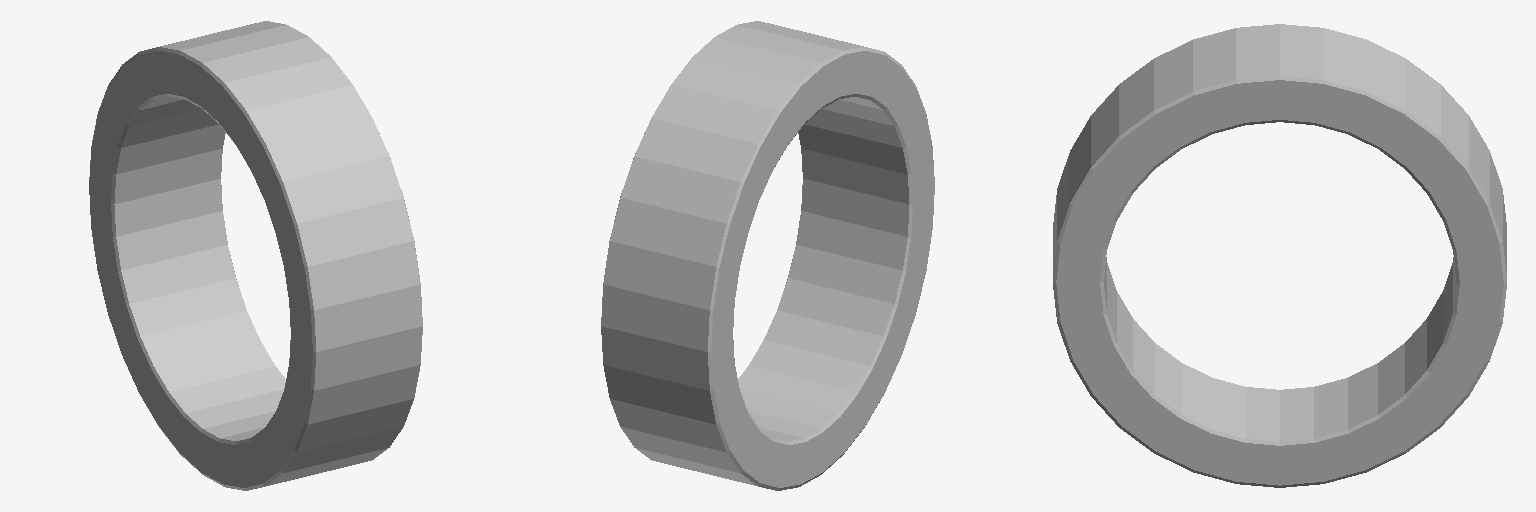
The model's file is Kugellager-hinten-1.obj.
3 renders of one model, left to right at view 1: azimuth 30°, elevation 25°; view 2: azimuth 150°, elevation 25°; view 3: azimuth 270°, elevation 25°, orthographic.
Parts seen in each view (by area): view 1: Circle.017; view 2: Circle.017; view 3: Circle.017.
Boxes of the visible parts, <box> form: Circle.017: <box>89,21,422,490</box>; Circle.017: <box>601,21,934,490</box>; Circle.017: <box>1053,24,1506,487</box>.
Size of the model in its own units: 0.0187 by 0.0669 by 0.0669.